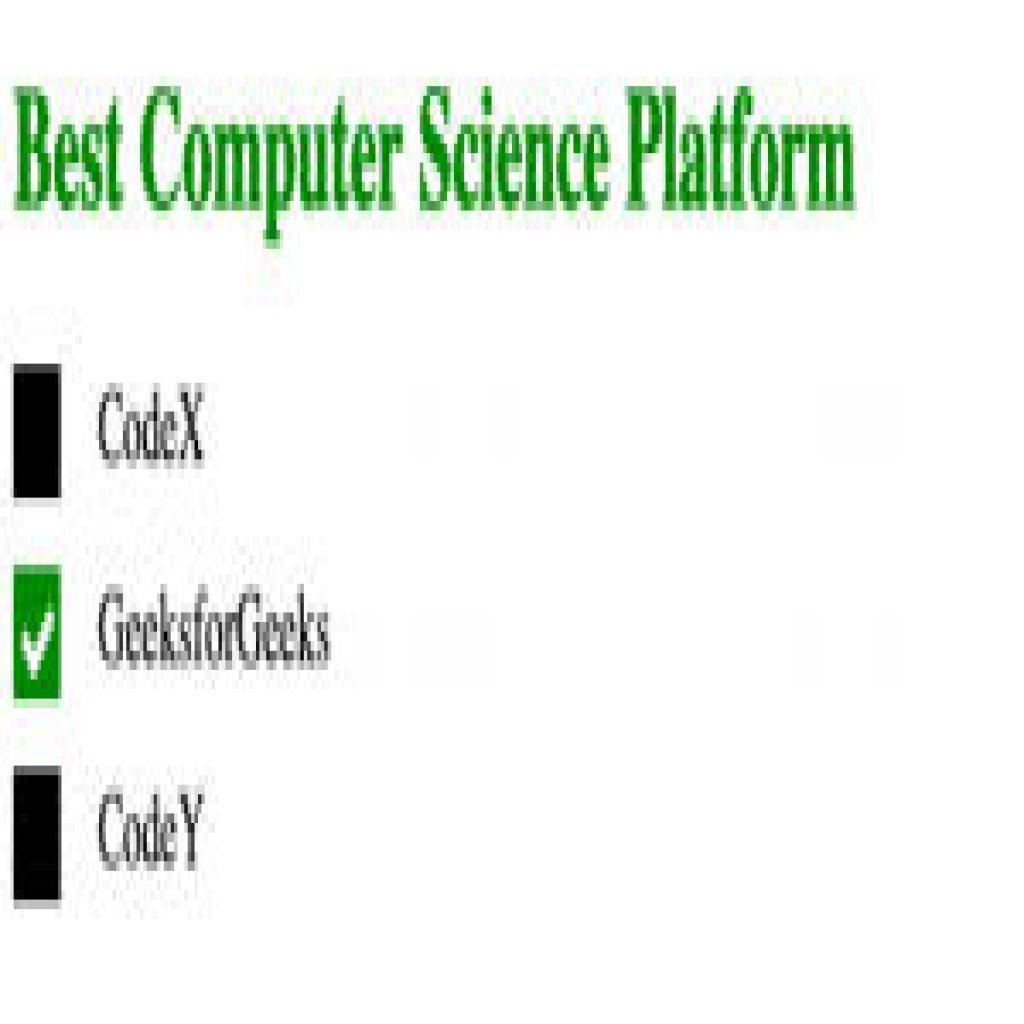checkbox: (10, 566, 69, 712), (11, 762, 66, 913), (15, 364, 63, 504)
